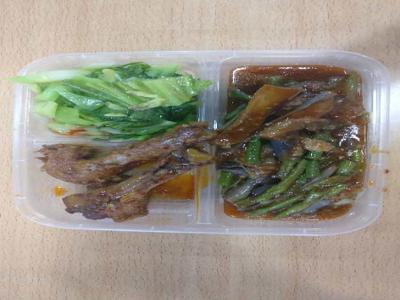ymc: (32, 65, 202, 144)
